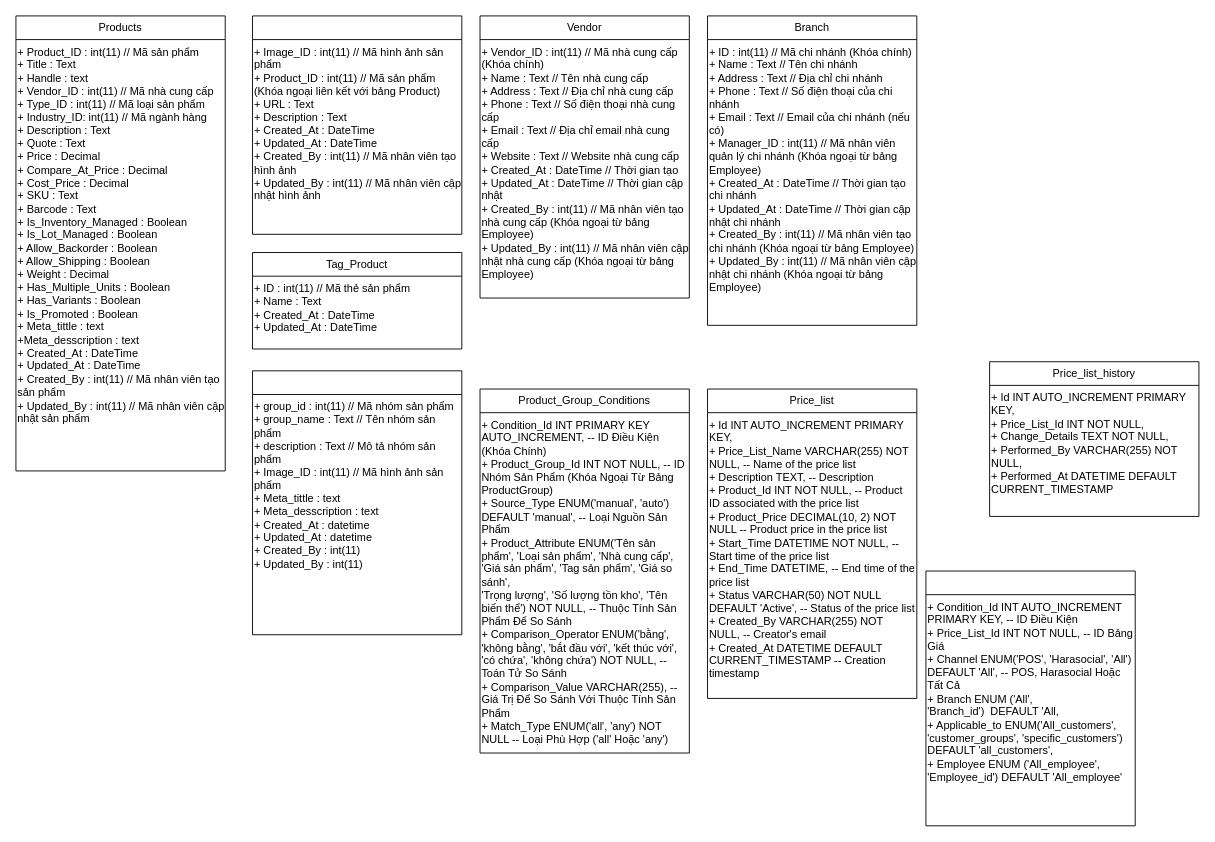
Image size: 1215x842. Some labels were removed from this diagram. Each missing label, with the box of its shape:
Images: (252, 15, 462, 234)
Price_list_conditions: (925, 570, 1135, 826)
Product_Group: (252, 370, 462, 635)
